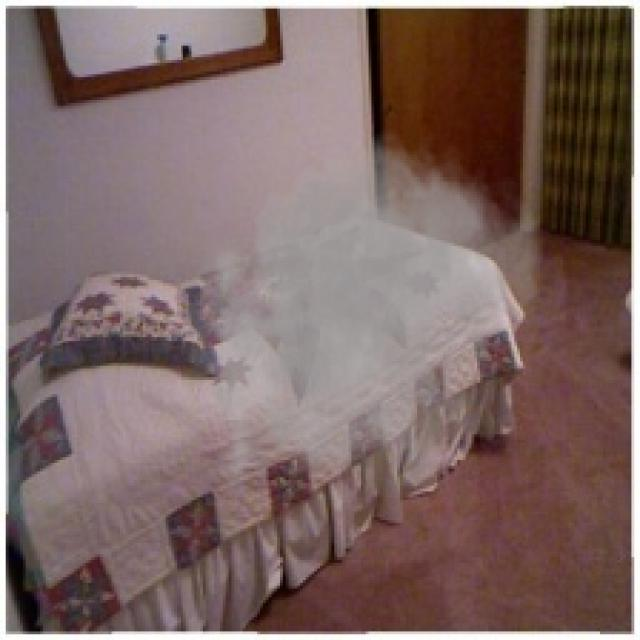smoke: (189, 120, 554, 509)
